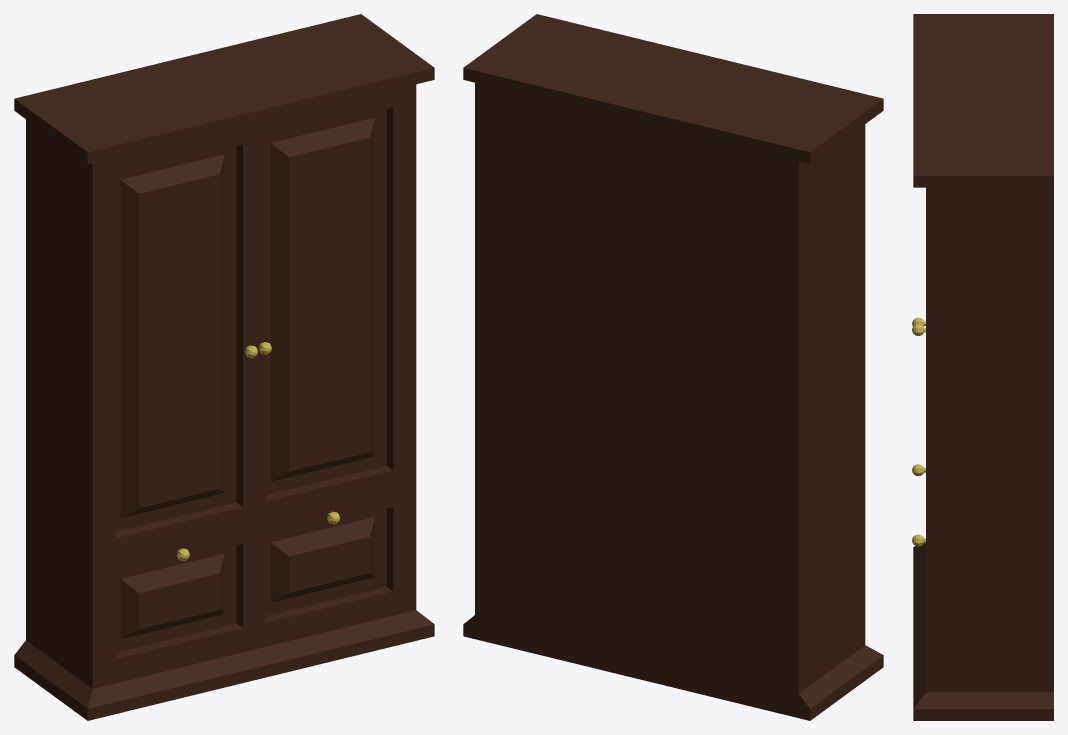
Rendered from low-poly-classic-wooden-wardrobe.glb.
3 renders of one model, left to right at view 1: azimuth 30°, elevation 25°; view 2: azimuth 150°, elevation 25°; view 3: azimuth 270°, elevation 25°, orthographic. The views are drawn at different scales.
Visible parts, largest first — view 1: Wardrobe_wardrobe material_0; view 2: Wardrobe_wardrobe material_0; view 3: Wardrobe_wardrobe material_0, Handle_handle material_0.
Part boxes in pixels (box(x1,y1,x2,y2)): Wardrobe_wardrobe material_0: box(14, 14, 434, 720); Wardrobe_wardrobe material_0: box(463, 14, 883, 720); Wardrobe_wardrobe material_0: box(913, 14, 1053, 720); Handle_handle material_0: box(912, 317, 925, 546).
Size of the model in its own units: 1.5 by 2.35 by 0.555.
